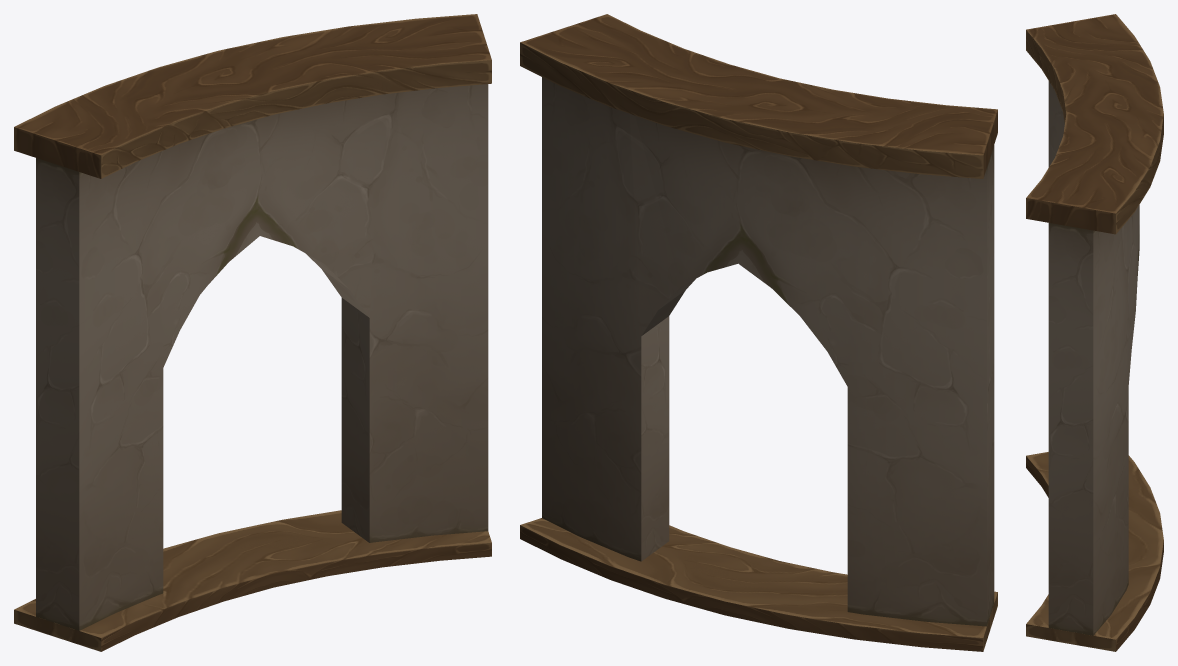
File: Wall_round_4_1.FBX
3 views of the same model, side by side, from view 1: azimuth 30°, elevation 25°; view 2: azimuth 150°, elevation 25°; view 3: azimuth 270°, elevation 25° (orthographic). The views are drawn at different scales.
Visible parts, largest first — view 1: Wall_round_4_1; view 2: Wall_round_4_1; view 3: Wall_round_4_1.
Part boxes in pixels (x1,y1,x2,y2): Wall_round_4_1: (14, 14, 491, 651); Wall_round_4_1: (520, 14, 997, 651); Wall_round_4_1: (1026, 14, 1163, 651).
Bounding box in the file's own units: 3486 × 3570 × 1017.
